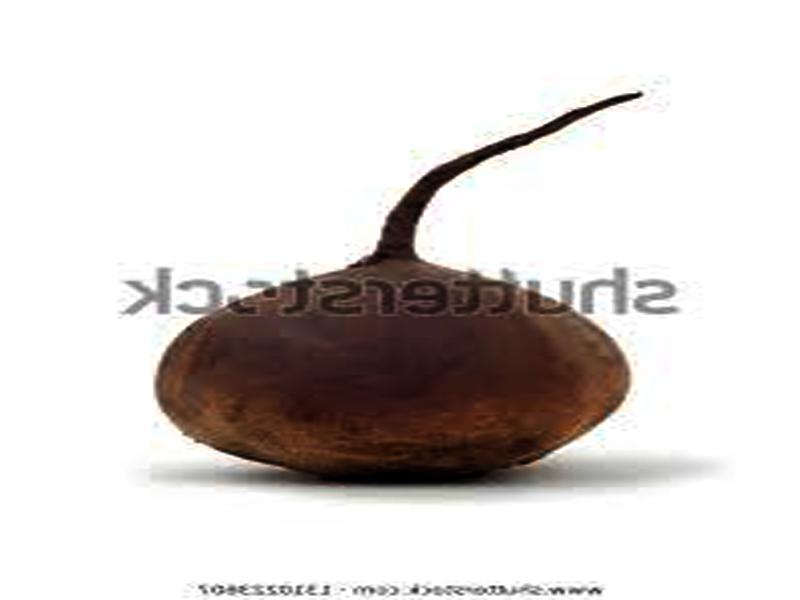Beet: (149, 91, 641, 483)
